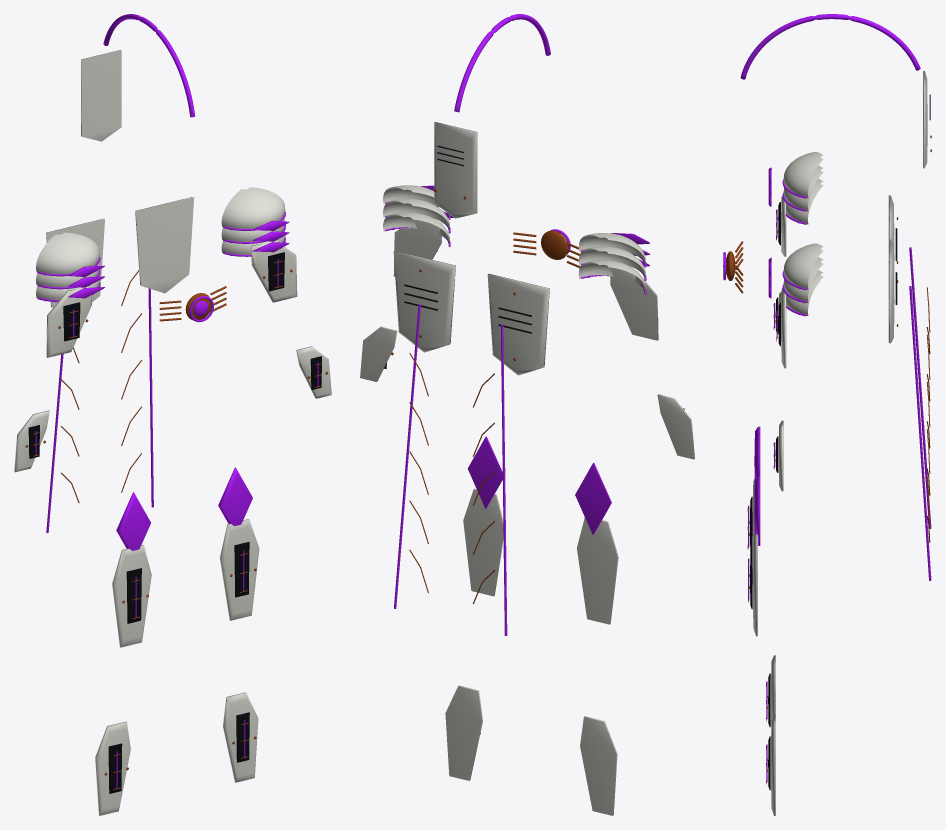
The model's file is Zhaev-new-parts.obj.
3 views of the same model, side by side, from view 1: azimuth 30°, elevation 25°; view 2: azimuth 150°, elevation 25°; view 3: azimuth 270°, elevation 25° (orthographic). The views are drawn at different scales.
Size of the model in its own units: 0.7463 by 1.7 by 0.4212.
